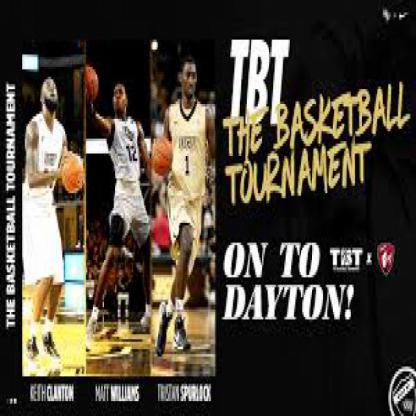basketball: (152, 136, 174, 176), (63, 153, 84, 193), (86, 64, 99, 104)
